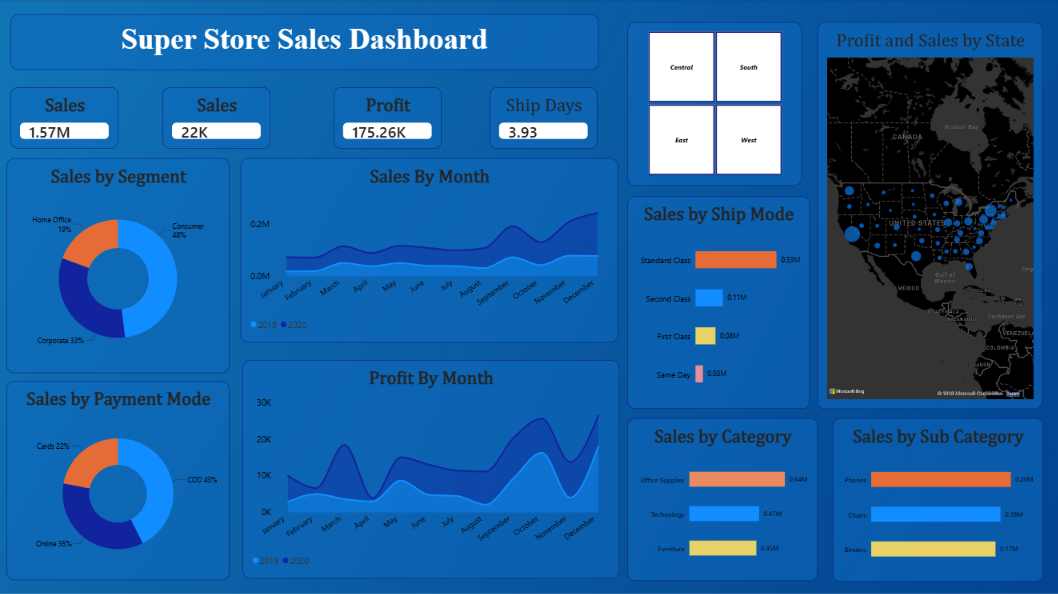

What the dashboard file says about the page in this screenshot:
{"tool":"powerbi","page":{"name":"Page 1","canvas":[1920,1080],"ordinal":0},"visuals":[{"type":"clusteredBarChart","title":"Sales by Category","fields":{"Category":["Sheet1.Category"],"Y":["Sum(Sheet1.Sales)"]},"box":[1140.3,757.5,343.7,294.3],"z":0},{"type":"clusteredBarChart","title":"Sales by Sub Category","fields":{"Category":["Sheet1.Sub-Category"],"Y":["Sum(Sheet1.Sales)"]},"box":[1510.8,757.5,380.8,296.4],"z":1000},{"type":"clusteredBarChart","title":"Sales by Ship Mode","fields":{"Category":["Sheet1.Ship Mode"],"Y":["Sum(Sheet1.Sales)"]},"box":[1140.3,356.1,329.3,384.9],"z":2000},{"type":"stackedAreaChart","title":"Sales By Month","fields":{"Category":["Sheet1.Order Date.Variation.Date Hierarchy.Month","Sheet1.Order Date.Variation.Date Hierarchy.Day"],"Series":["Sheet1.Order Date.Variation.Date Hierarchy.Year"],"Y":["Sum(Sheet1.Sales)"]},"box":[440.5,288.2,683.4,333.4],"z":3000},{"type":"stackedAreaChart","title":"Profit By Month","fields":{"Category":["Sheet1.Order Date.Variation.Date Hierarchy.Month","Sheet1.Order Date.Variation.Date Hierarchy.Day"],"Series":["Sheet1.Order Date.Variation.Date Hierarchy.Year"],"Y":["Sum(Sheet1.Profit)"]},"box":[442.5,652.5,681.3,395.2],"z":4000},{"type":"map","title":"Profit and Sales by State","fields":{"Category":["Sheet1.State"],"Size":["Sum(Sheet1.Sales)"]},"box":[1484.1,41.2,407.5,699.8],"z":5000},{"type":"donutChart","title":" Sales by Segment","fields":{"Category":["Sheet1.Segment"],"Y":["Sum(Sheet1.Sales)"]},"box":[16.5,288.2,403.4,389],"z":6000},{"type":"donutChart","title":"Sales by Payment Mode","fields":{"Category":["Sheet1.Payment Mode"],"Y":["Sum(Sheet1.Sales)"]},"box":[16.5,691.6,403.4,360.2],"z":7000},{"type":"slicer","fields":{"Values":["Sheet1.Region"]},"box":[1140.3,41.2,314.9,296.4],"z":8000},{"type":"textbox","box":[22.6,26.8,1064.2,100.9],"z":9000},{"type":"cardVisual","title":"Sales","fields":{"Data":["Sum(Sheet1.Sales)"]},"box":[22.6,158.5,195.5,111.1],"z":9001},{"type":"cardVisual","title":"Sales","fields":{"Data":["Sum(Sheet1.Quantity)"]},"box":[298.5,158.5,195.5,111.1],"z":9002},{"type":"cardVisual","title":"Profit","fields":{"Data":["Sum(Sheet1.Profit)"]},"box":[607.2,158.5,195.5,111.1],"z":9003},{"type":"cardVisual","title":"Ship Days","fields":{"Data":["Avg(Sheet1.AvgDelivery)"]},"box":[891.3,158.5,195.5,111.1],"z":9004}]}

Visuals, with their boxes in screenshot pixels (x1, y1, x2, y2), scaled from the page's 1920x1080 canvas onto the 1058x594 screenshot:
"Sales by Category" clusteredBarChart: select_region(628, 417, 818, 578)
"Sales by Sub Category" clusteredBarChart: select_region(833, 417, 1042, 580)
"Sales by Ship Mode" clusteredBarChart: select_region(628, 196, 810, 408)
"Sales By Month" stackedAreaChart: select_region(243, 159, 619, 342)
"Profit By Month" stackedAreaChart: select_region(244, 359, 619, 576)
"Profit and Sales by State" map: select_region(818, 23, 1042, 408)
" Sales by Segment" donutChart: select_region(9, 159, 231, 372)
"Sales by Payment Mode" donutChart: select_region(9, 380, 231, 578)
slicer - Sheet1.Region: select_region(628, 23, 802, 186)
textbox: select_region(12, 15, 599, 70)
"Sales" cardVisual: select_region(12, 87, 120, 148)
"Sales" cardVisual: select_region(164, 87, 272, 148)
"Profit" cardVisual: select_region(335, 87, 442, 148)
"Ship Days" cardVisual: select_region(491, 87, 599, 148)
